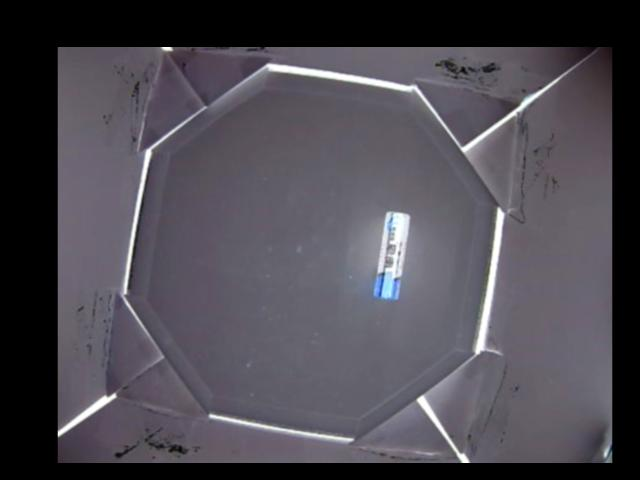Battery: (374, 212, 410, 301)
